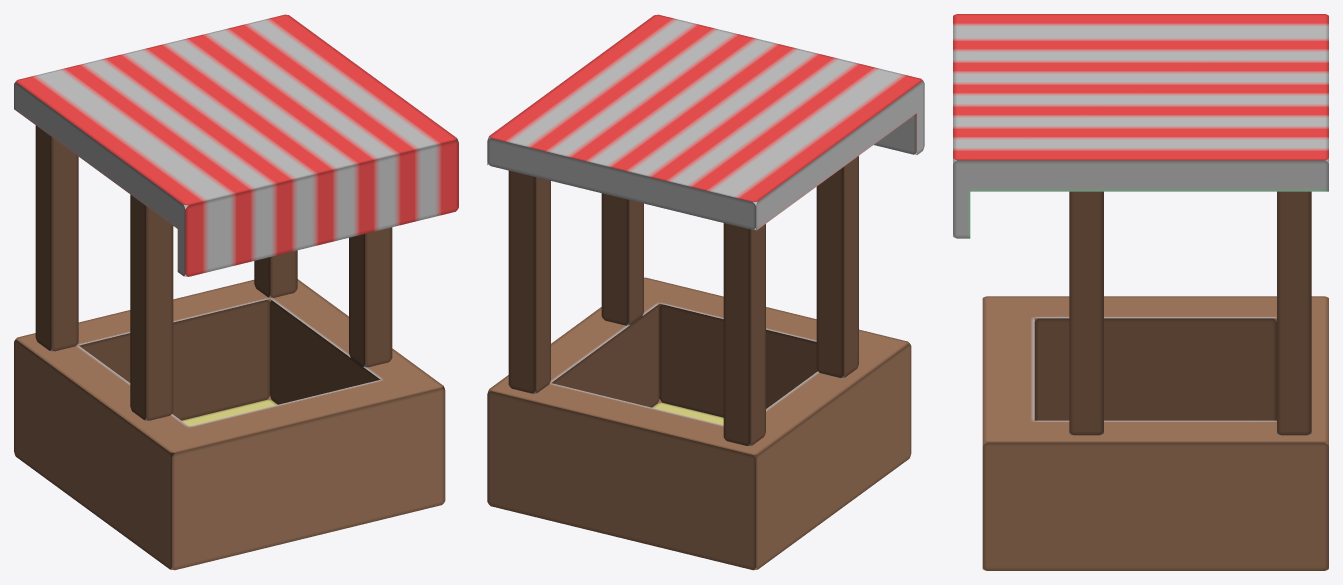
File: marketplace.obj
The picture shows the model from 3 angles, left to right: view 1: azimuth 30°, elevation 25°; view 2: azimuth 150°, elevation 25°; view 3: azimuth 270°, elevation 25°; orthographic projection. The views are drawn at different scales.
Visible parts, largest first — view 1: mesh; view 2: mesh; view 3: mesh.
Part boxes in pixels (<box>): mesh: <box>14,14,458,570</box>; mesh: <box>487,14,924,570</box>; mesh: <box>953,14,1328,570</box>.
Bounding box in the file's own units: 0.4364 × 0.5715 × 0.4738.
1 material, 1 textured.
